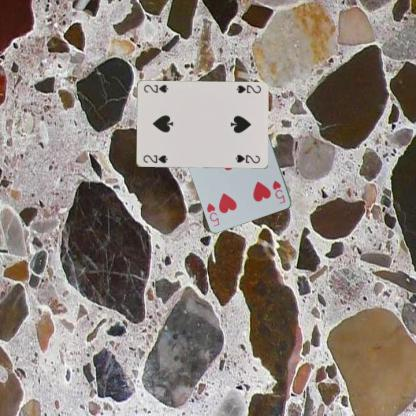2s: (140, 152, 169, 164), (233, 82, 262, 94)
5h: (270, 178, 286, 205)
